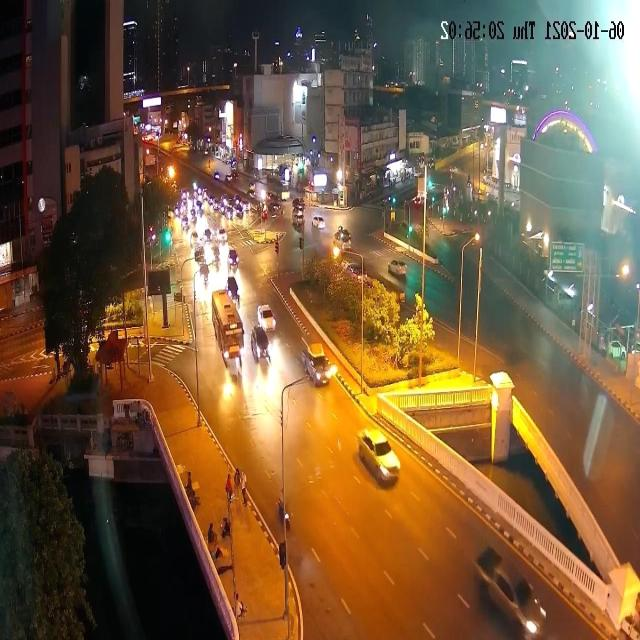Bus: (211, 287, 245, 368)
Car: (473, 531, 551, 640), (353, 423, 400, 490), (302, 340, 334, 387), (251, 324, 271, 365), (344, 259, 370, 282), (256, 304, 276, 332), (334, 227, 352, 252), (208, 194, 225, 217), (227, 276, 240, 302), (388, 259, 405, 278), (228, 248, 240, 268), (265, 190, 280, 206), (292, 215, 305, 233), (194, 243, 205, 264), (269, 201, 283, 217), (312, 216, 326, 230), (216, 226, 228, 242), (292, 197, 304, 213), (412, 193, 425, 207), (233, 203, 244, 219), (181, 216, 190, 233), (226, 169, 238, 181), (204, 229, 212, 242), (248, 182, 256, 195), (213, 171, 220, 181)
